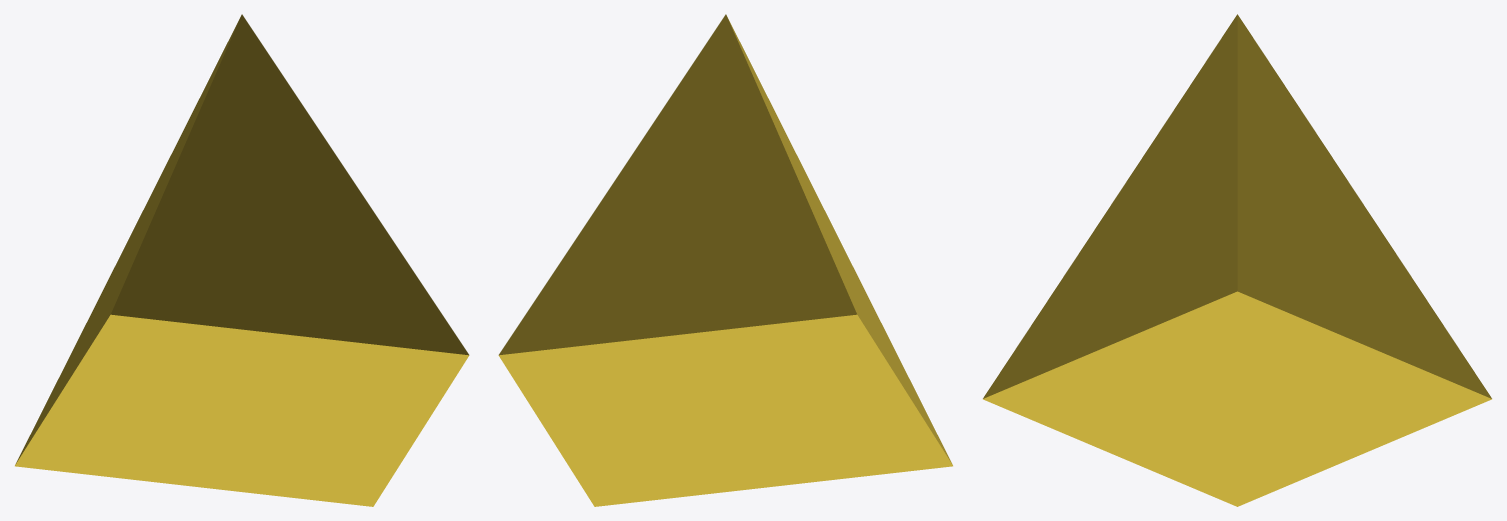
File: chichen-itza.glb
The picture shows the model from 3 angles, left to right: view 1: azimuth 30°, elevation 25°; view 2: azimuth 150°, elevation 25°; view 3: azimuth 270°, elevation 25°; orthographic projection. The views are drawn at different scales.
Parts seen in each view (by area): view 1: chichen-itza; view 2: chichen-itza; view 3: chichen-itza.
Boxes of the visible parts, <box> form: chichen-itza: <box>15,14,469,506</box>; chichen-itza: <box>498,14,952,506</box>; chichen-itza: <box>983,14,1491,506</box>.
Size of the model in its own units: 1.2 by 1 by 1.2.
